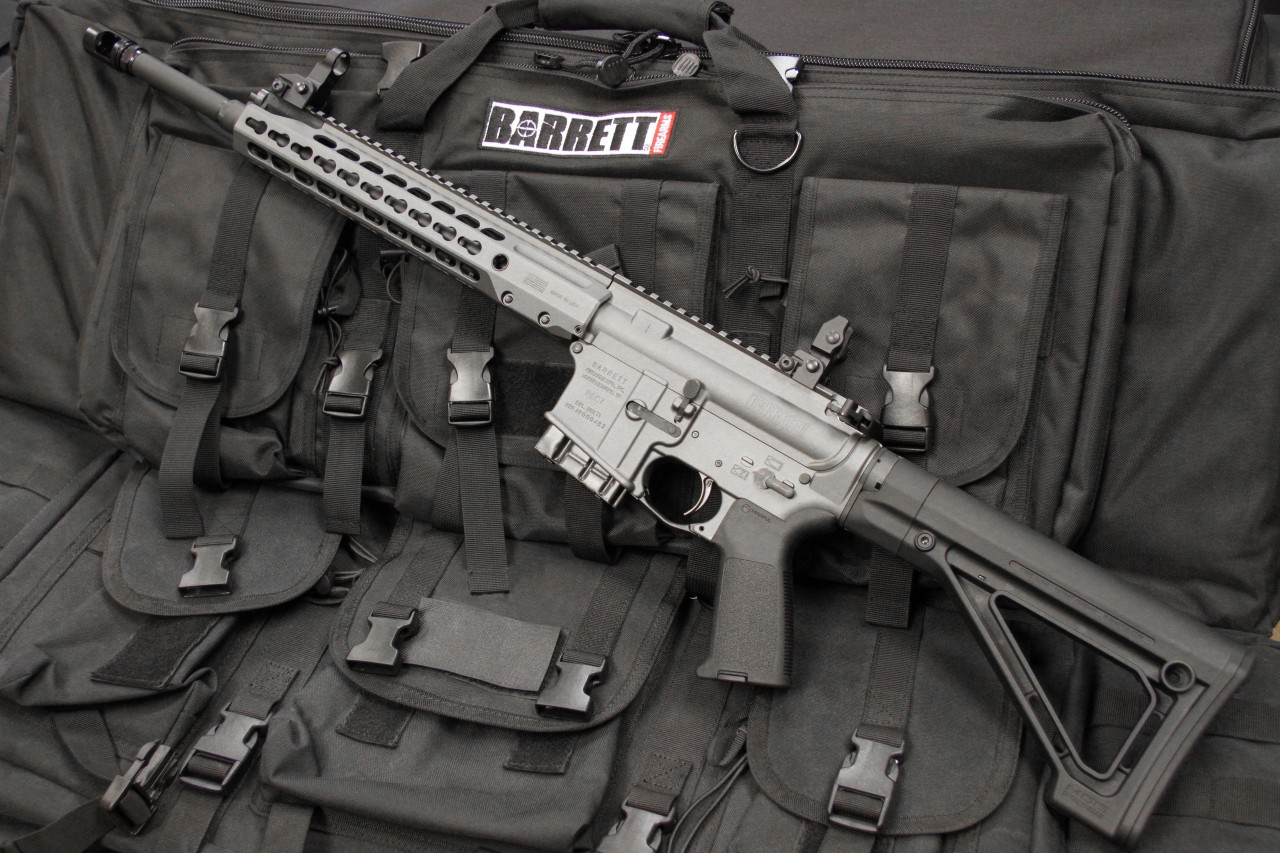Rifle: (77, 22, 1260, 842)
